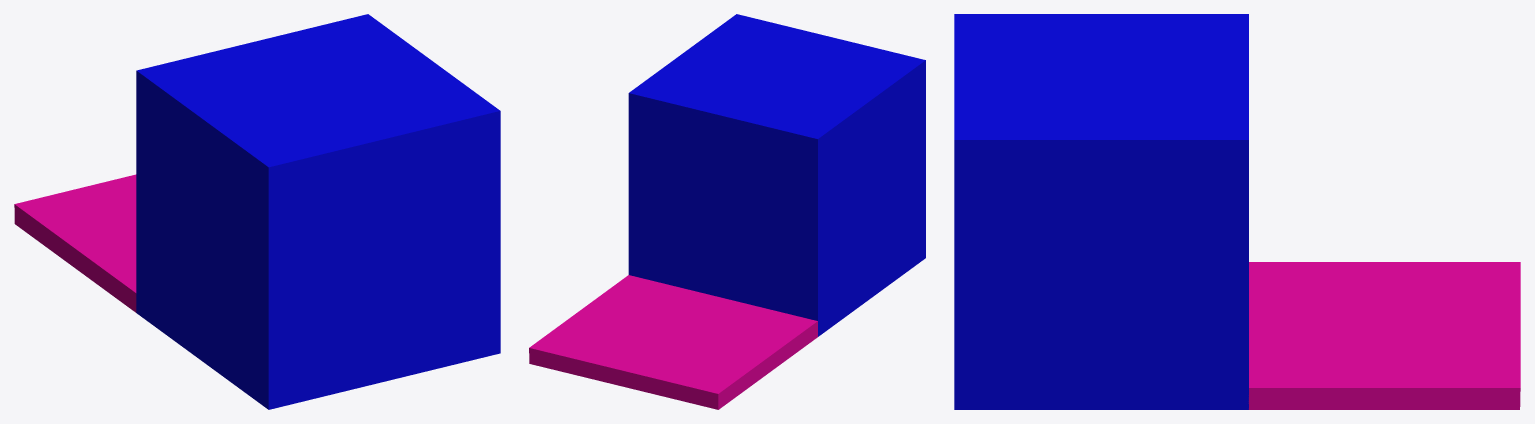
The model's file is tuile1.fbx.
3 renders of one model, left to right at view 1: azimuth 30°, elevation 25°; view 2: azimuth 150°, elevation 25°; view 3: azimuth 270°, elevation 25°, orthographic. The views are drawn at different scales.
Parts seen in each view (by area): view 1: Cube; view 2: Cube; view 3: Cube.
Boxes of the visible parts, x1,y1,x2,y2 form: Cube: (14, 14, 500, 409); Cube: (529, 14, 925, 409); Cube: (954, 14, 1520, 409).
Bounding box in the file's own units: 100 × 100 × 190.
